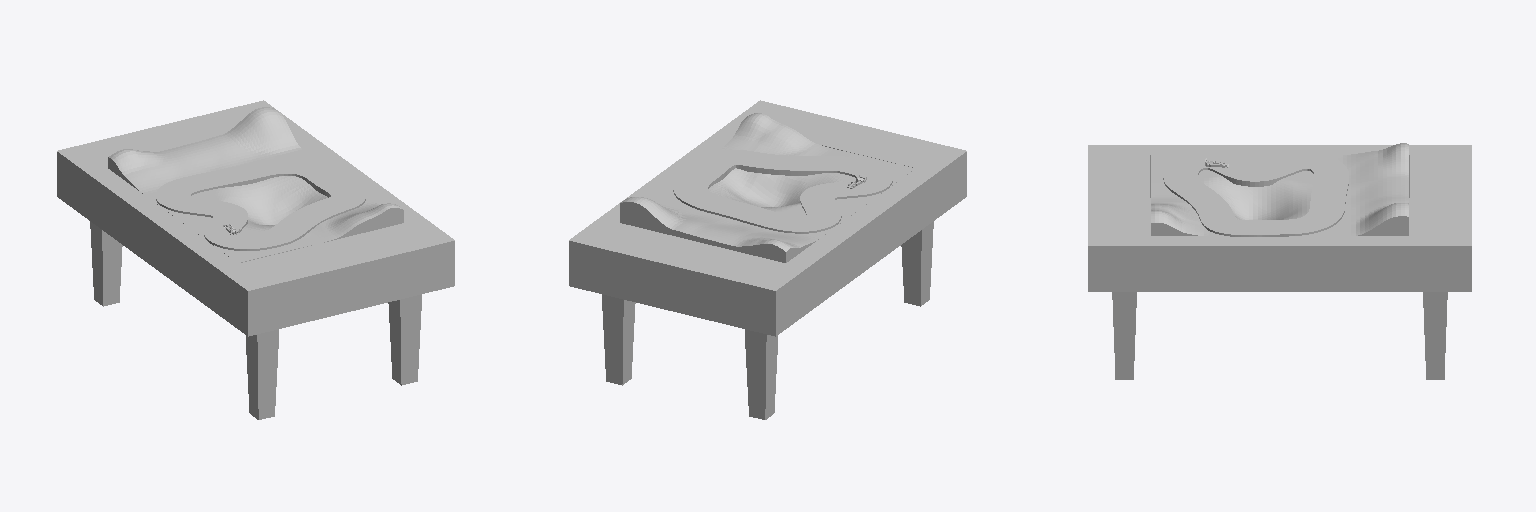
Rendered from NewestTisch68.obj.
3 views of the same model, side by side, from view 1: azimuth 30°, elevation 25°; view 2: azimuth 150°, elevation 25°; view 3: azimuth 270°, elevation 25° (orthographic).
Parts seen in each view (by area): view 1: Tischplatte_wood_table_001, Landschaft_aerial_grass_rock, off, Bein1_wood_table_001, Bein4_wood_table_001.003, Bein3_wood_table_001.002; view 2: Tischplatte_wood_table_001, Landschaft_aerial_grass_rock, off, Bein2_wood_table_001.001, Bein3_wood_table_001.002, Bein4_wood_table_001.003; view 3: Tischplatte_wood_table_001, Landschaft_aerial_grass_rock, off, Bein1_wood_table_001, Bein2_wood_table_001.001.
Part boxes in pixels (bbox=[...]): Tischplatte_wood_table_001: bbox=[57, 100, 454, 336]; Landschaft_aerial_grass_rock: bbox=[108, 107, 403, 262]; off: bbox=[156, 159, 365, 250]; Bein1_wood_table_001: bbox=[388, 294, 421, 385]; Bein4_wood_table_001.003: bbox=[246, 329, 278, 419]; Bein3_wood_table_001.002: bbox=[90, 221, 122, 306]; Tischplatte_wood_table_001: bbox=[569, 100, 966, 336]; Landschaft_aerial_grass_rock: bbox=[620, 113, 915, 262]; off: bbox=[673, 150, 892, 233]; Bein2_wood_table_001.001: bbox=[602, 294, 635, 385]; Bein3_wood_table_001.002: bbox=[745, 329, 777, 419]; Bein4_wood_table_001.003: bbox=[901, 221, 933, 306]; Tischplatte_wood_table_001: bbox=[1088, 145, 1471, 291]; Landschaft_aerial_grass_rock: bbox=[1151, 143, 1408, 235]; off: bbox=[1163, 153, 1348, 236]; Bein1_wood_table_001: bbox=[1112, 292, 1136, 379]; Bein2_wood_table_001.001: bbox=[1423, 292, 1447, 379].
Size of the model in its own units: 5 by 3.91 by 8.